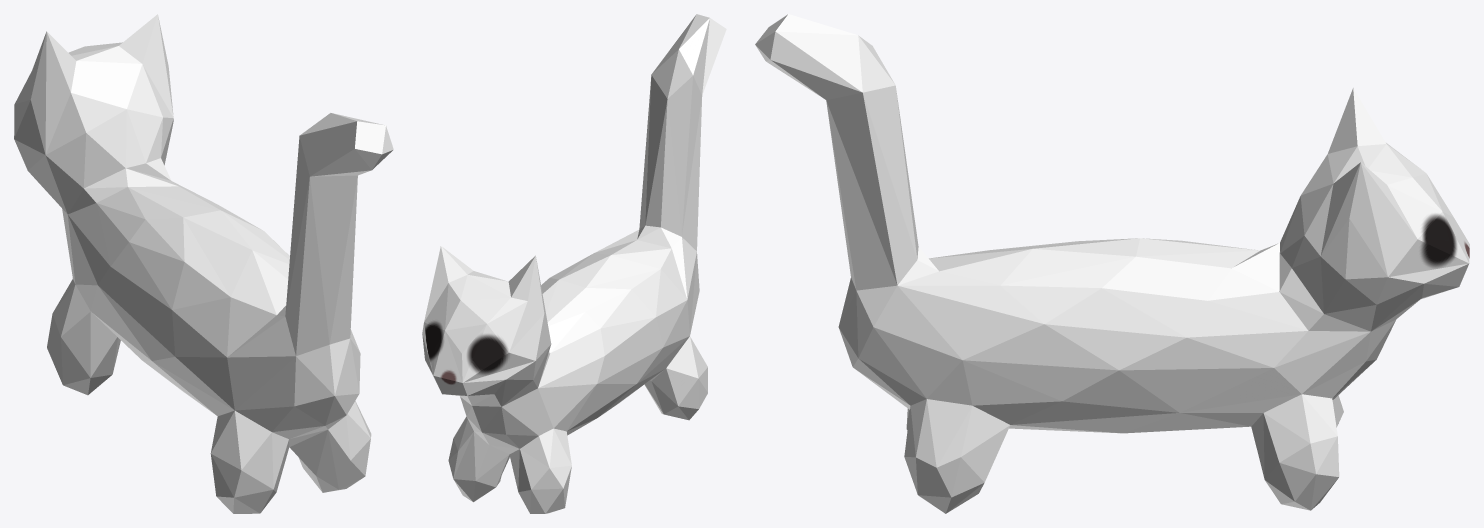
File: animal_cat_blob.obj
3 renders of one model, left to right at view 1: azimuth 30°, elevation 25°; view 2: azimuth 150°, elevation 25°; view 3: azimuth 270°, elevation 25°, orthographic. The views are drawn at different scales.
Parts seen in each view (by area): view 1: animal_cat_blob; view 2: animal_cat_blob; view 3: animal_cat_blob.
Part boxes in pixels (x1,y1,x2,y2): animal_cat_blob: (14, 14, 393, 513); animal_cat_blob: (422, 14, 726, 513); animal_cat_blob: (755, 14, 1469, 513).
Bounding box in the file's own units: 0.1749 × 0.4893 × 0.6771.
